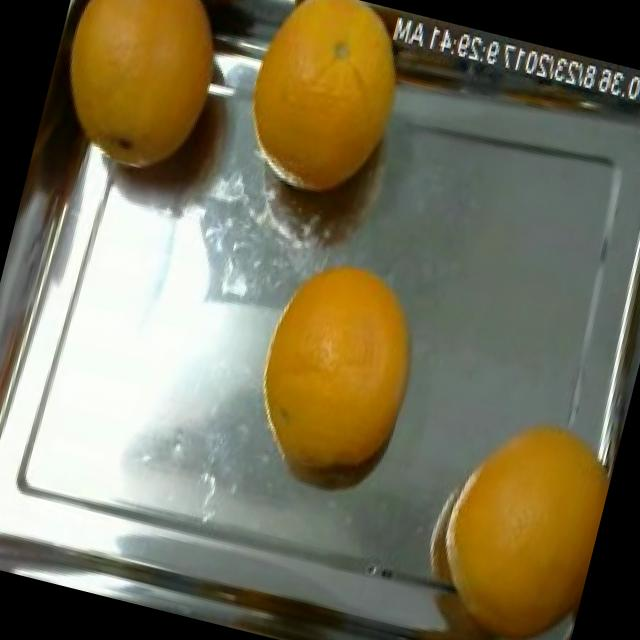Fruit: (242, 234, 447, 465), (227, 0, 434, 218), (39, 0, 256, 174)
